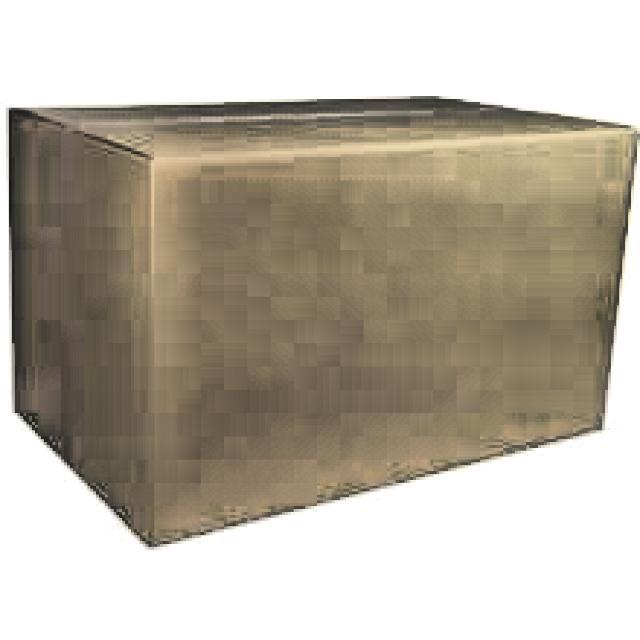cardboard: (6, 93, 640, 547)
